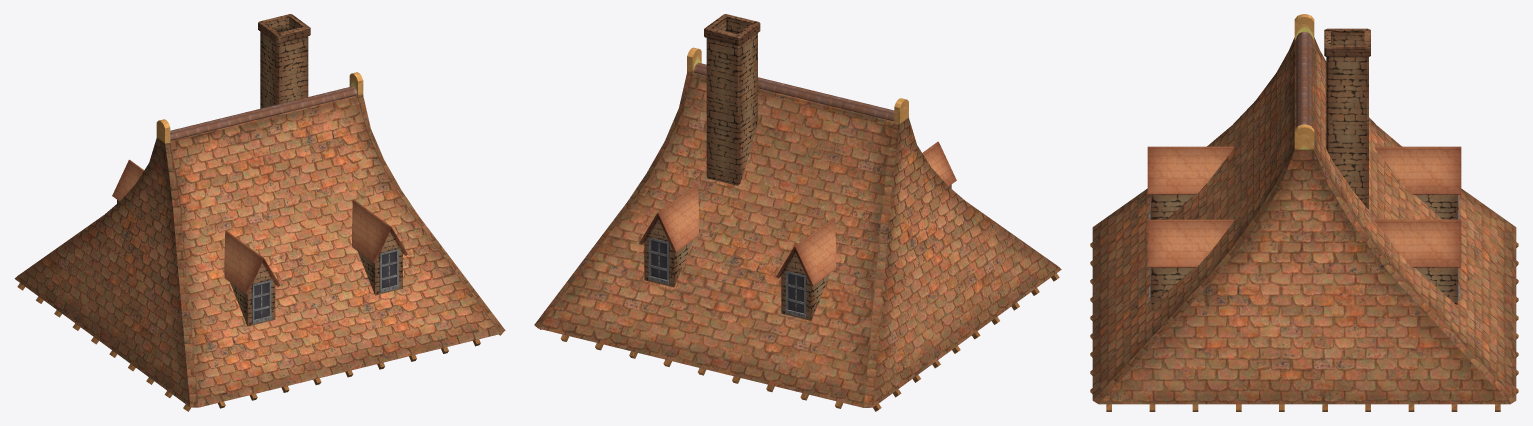
File: sb_obj_outdoor001_Castle01_roof02.fbx
The picture shows the model from 3 angles, left to right: view 1: azimuth 30°, elevation 25°; view 2: azimuth 150°, elevation 25°; view 3: azimuth 270°, elevation 25°; orthographic projection. The views are drawn at different scales.
Visible parts, largest first — view 1: sb_obj_outdoor001_Castle01_roof02; view 2: sb_obj_outdoor001_Castle01_roof02; view 3: sb_obj_outdoor001_Castle01_roof02.
Part boxes in pixels (box(x1,y1,x2,y2)): sb_obj_outdoor001_Castle01_roof02: box(14, 14, 505, 411); sb_obj_outdoor001_Castle01_roof02: box(534, 14, 1061, 411); sb_obj_outdoor001_Castle01_roof02: box(1090, 14, 1518, 411).
Bounding box in the file's own units: 9.98 × 7.9 × 9.92.
